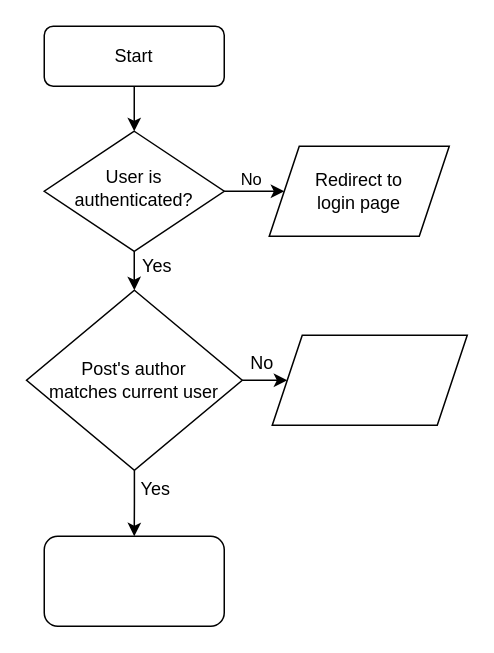
The diagram is 494 pixels wide and 653 high, and some of its shapes have lost their labels. The shapes that lost their labels are listed below. From the top down, each one's box as (x1, y1, x2, y2) in pixels, then its label:
(271, 334, 467, 425): Redirect to home page
(43, 535, 224, 626): Delete post from databse
